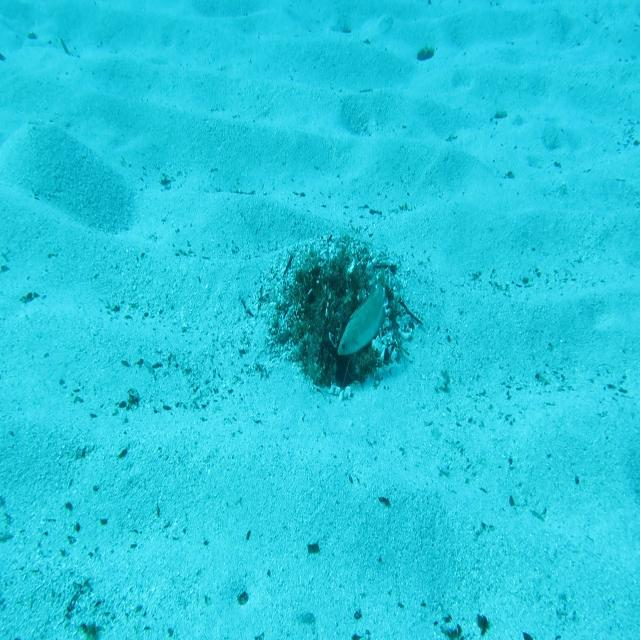LAND: (335, 264, 391, 360)
nest: (263, 242, 411, 411)
